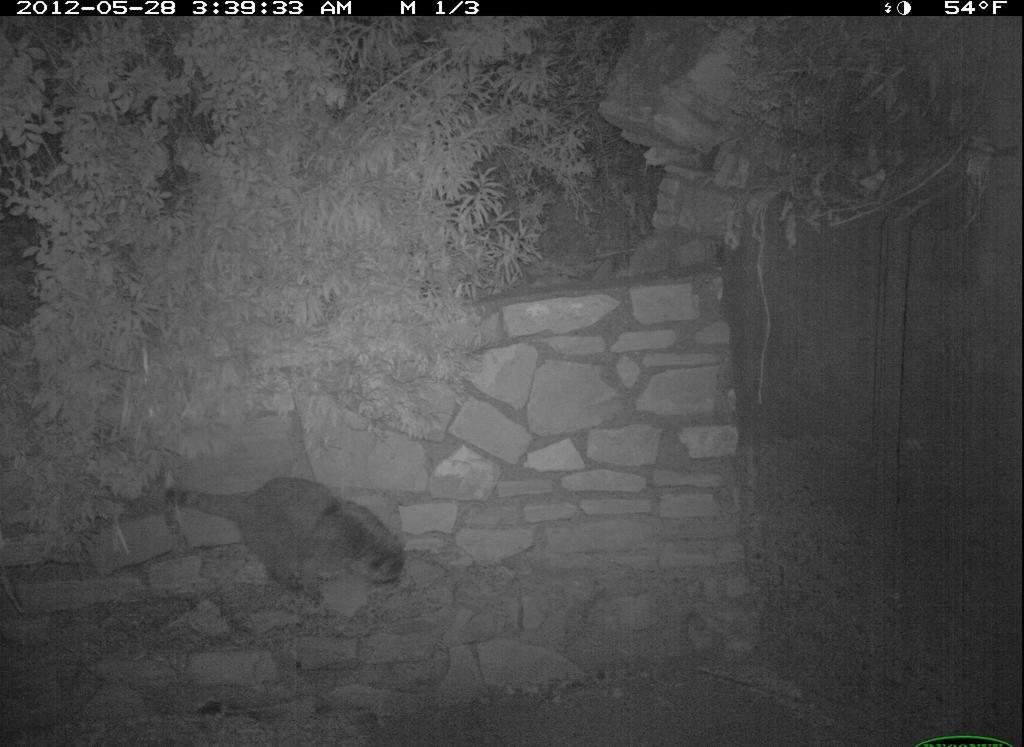raccoon: (171, 466, 420, 603)
